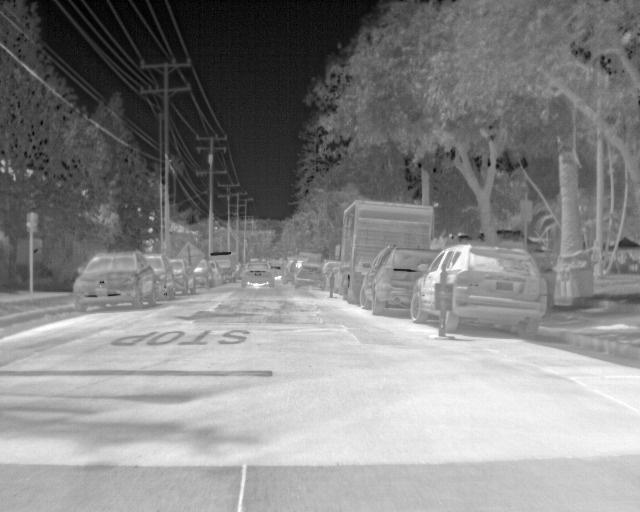bicycle: (408, 240, 549, 339), (361, 244, 440, 316), (69, 252, 157, 314), (142, 253, 172, 300), (240, 257, 276, 291), (289, 250, 325, 283), (168, 258, 195, 295), (296, 265, 324, 288)
